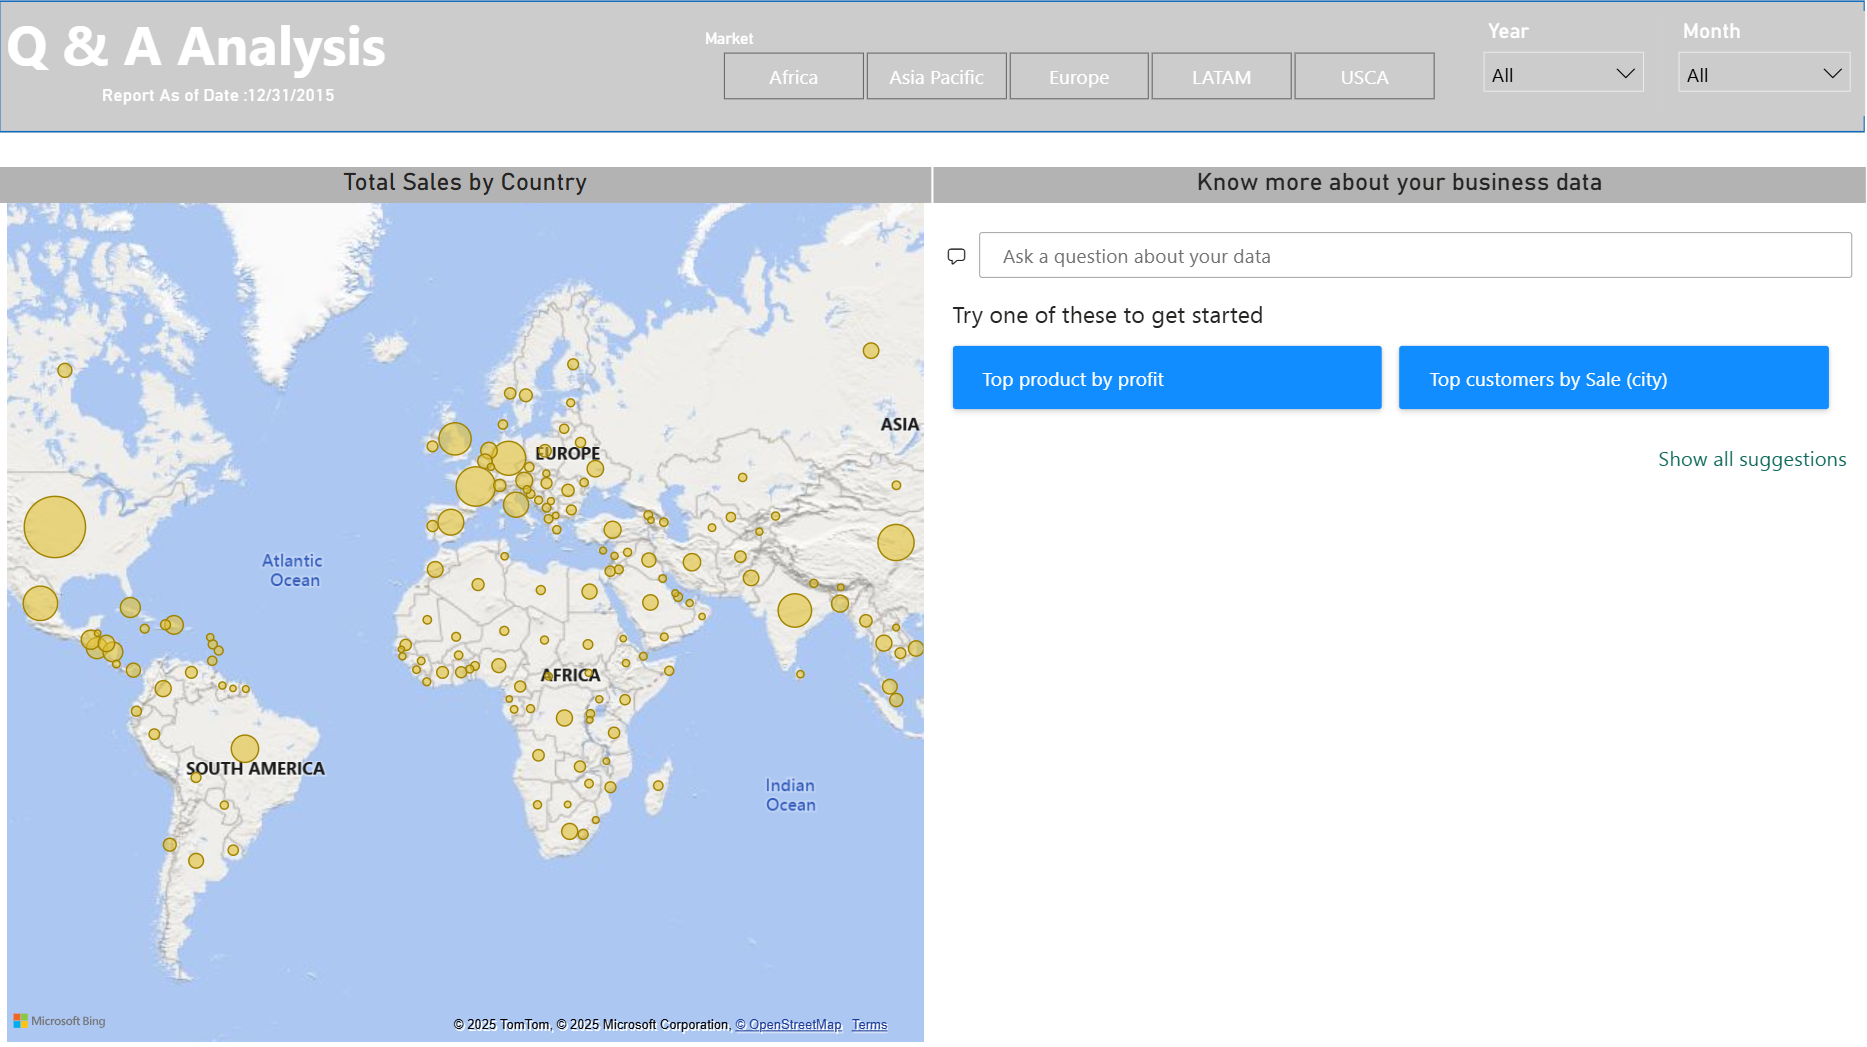

What the dashboard file says about the page in this screenshot:
{"tool":"powerbi","page":{"name":"Q & A Analysis","canvas":[1280,720],"ordinal":1},"visuals":[{"type":"shape","box":[0,1,1279.6,90.4],"z":0},{"type":"textbox","box":[0,0,1279.6,60.3],"z":1000},{"type":"card","fields":{"Values":["Imp Measure Table.Report As of Date"]},"box":[0,45.7,300.4,43.7],"z":2000},{"type":"slicer","fields":{"Values":["Orders.Market"]},"box":[470.9,15.6,537.4,60.3],"z":3000},{"type":"slicer","fields":{"Values":["Date Table.Year"]},"box":[1008.3,8.3,129.9,71.7],"z":4000},{"type":"slicer","fields":{"Values":["Date Table.MonthName"]},"box":[1141.3,8.3,138.3,71.7],"z":5000},{"type":"map","fields":{"Size":["Imp Measure Table.Total Sales"],"Category":["Orders.Country"]},"box":[0,114.9,639.3,605.3],"z":7000},{"type":"qnaVisual","title":"Know more about your business data","box":[640.4,114.9,639.3,605.3],"z":8000}]}

Visuals, with their boxes in screenshot pixels (x1, y1, x2, y2), scaled from the page's 1280x720 canvas onto the 1867x1047 screenshot:
shape: (0, 1, 1866, 133)
textbox: (0, 0, 1866, 88)
card - Imp Measure Table.Report As of Date: (0, 66, 438, 130)
slicer - Orders.Market: (687, 23, 1471, 110)
slicer - Date Table.Year: (1471, 12, 1660, 116)
slicer - Date Table.MonthName: (1665, 12, 1866, 116)
map - Imp Measure Table.Total Sales x Orders.Country: (0, 167, 932, 1046)
"Know more about your business data" qnaVisual: (934, 167, 1866, 1046)
